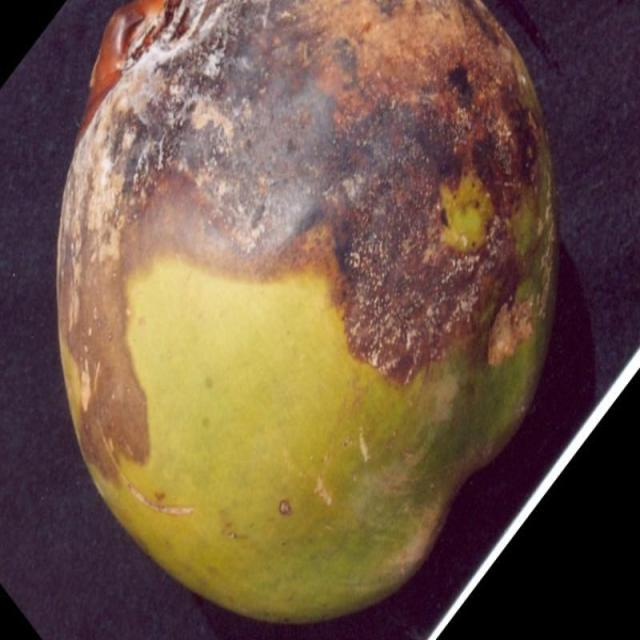damaged: (57, 0, 555, 621)
